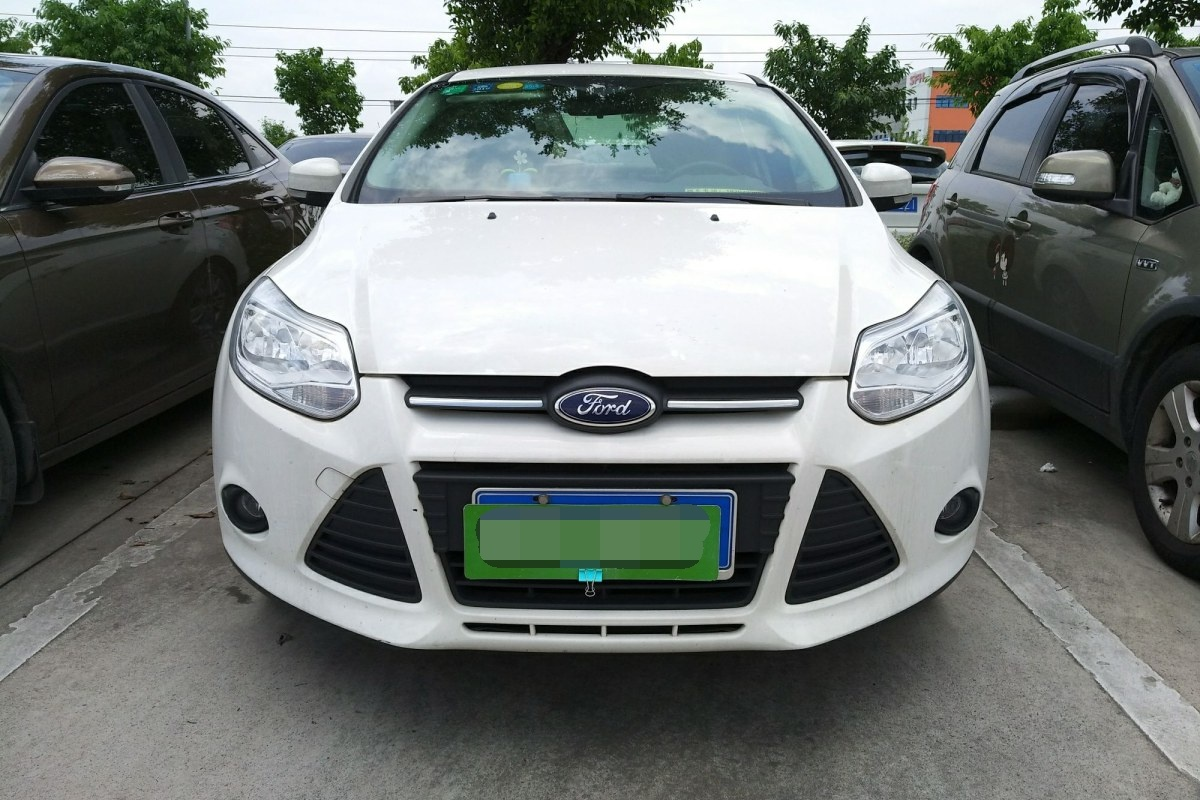family sedan: (233, 43, 994, 681)
